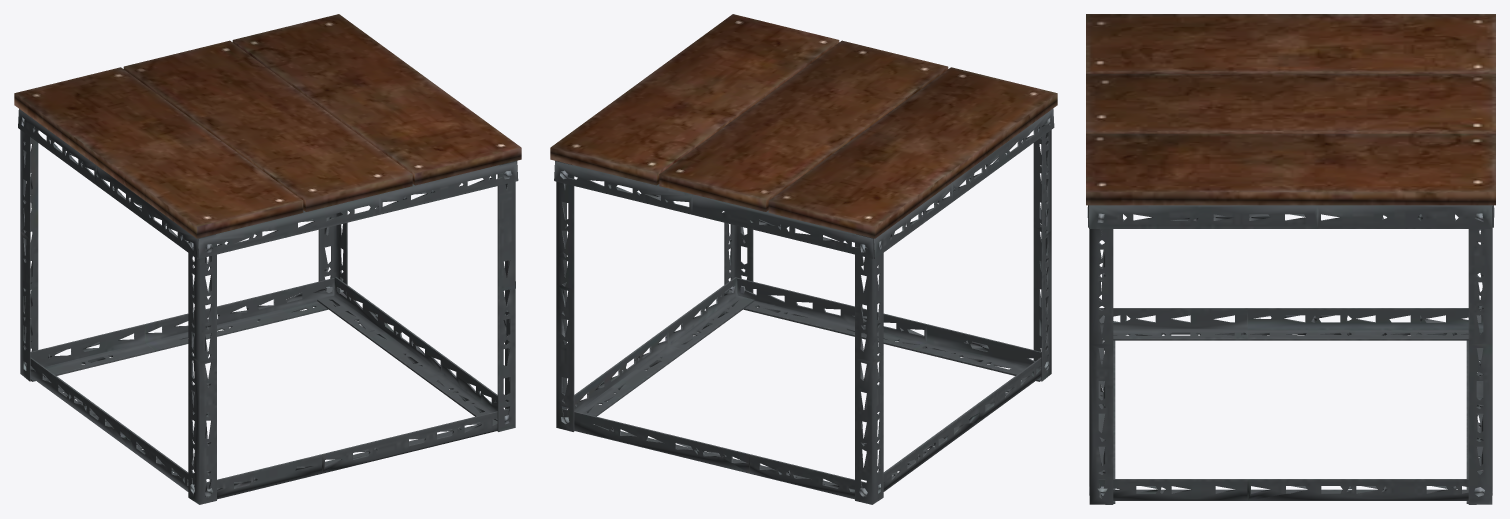
The model's file is industrial_coffee_table.9ae996a3.glb.
The picture shows the model from 3 angles, left to right: view 1: azimuth 30°, elevation 25°; view 2: azimuth 150°, elevation 25°; view 3: azimuth 270°, elevation 25°; orthographic projection. The views are drawn at different scales.
Parts seen in each view (by area): view 1: industrial_coffee_table; view 2: industrial_coffee_table; view 3: industrial_coffee_table.
Part boxes in pixels (x1,y1,x2,y2): industrial_coffee_table: (14,14,521,504); industrial_coffee_table: (550,14,1057,504); industrial_coffee_table: (1086,14,1495,504).
Bounding box in the file's own units: 0.7395 × 0.6104 × 0.72.
1 material, 1 textured.
